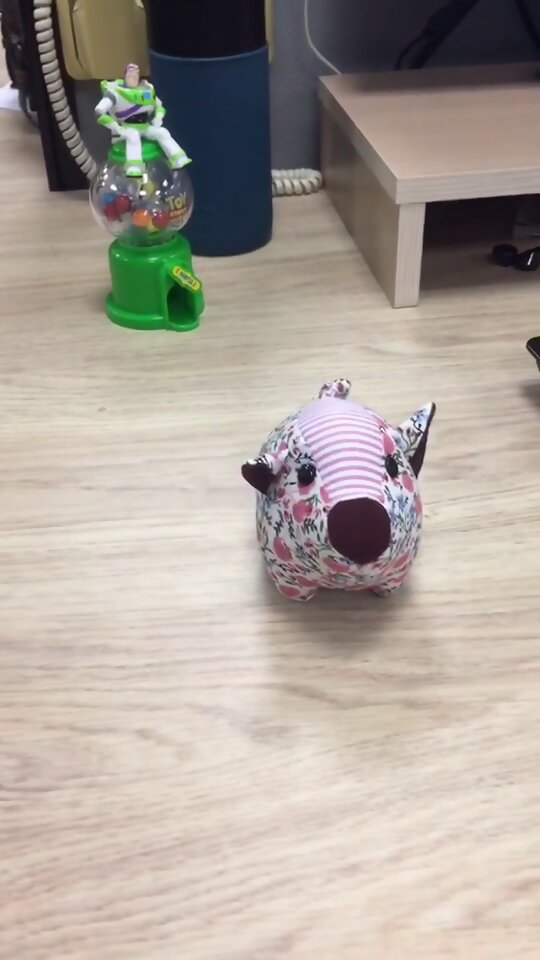pig: (237, 372, 437, 607)
